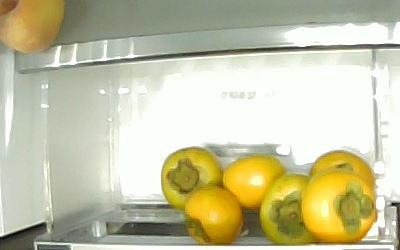persimmon: (300, 171, 376, 244), (260, 174, 320, 244), (161, 143, 222, 207), (224, 154, 285, 209), (186, 186, 242, 243), (310, 150, 374, 189)
